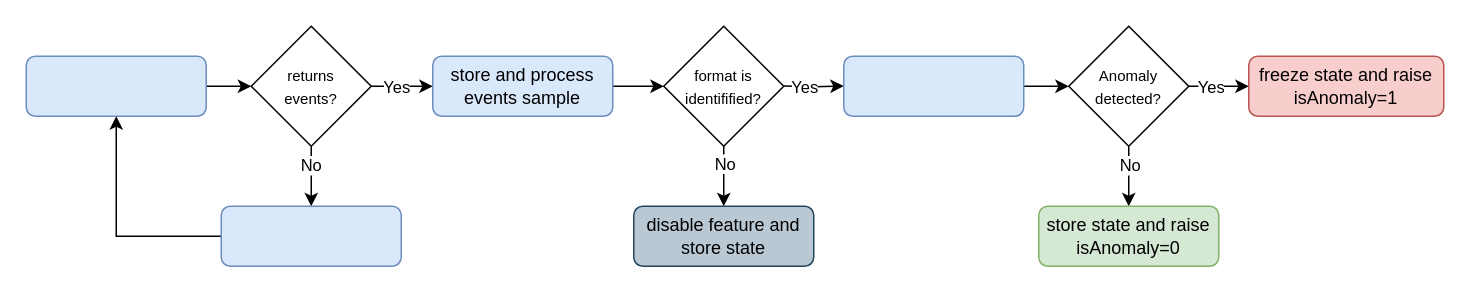
Image size: 1470x293. Some labels were removed from this diagram. Here are the shapes that lost their labels. From the top down, the centre of each, then its label:
At pixel 115 85: "Start data sampling".
At pixel 933 85: "compare with previous cycle".
At pixel 310 235: "new attempt in next cycle".
